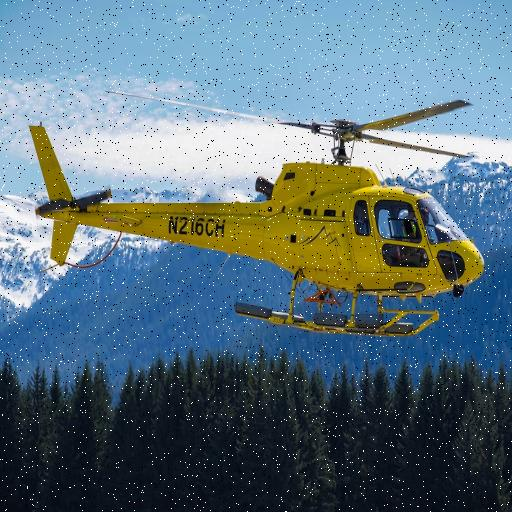helicopter: (25, 66, 494, 356)
